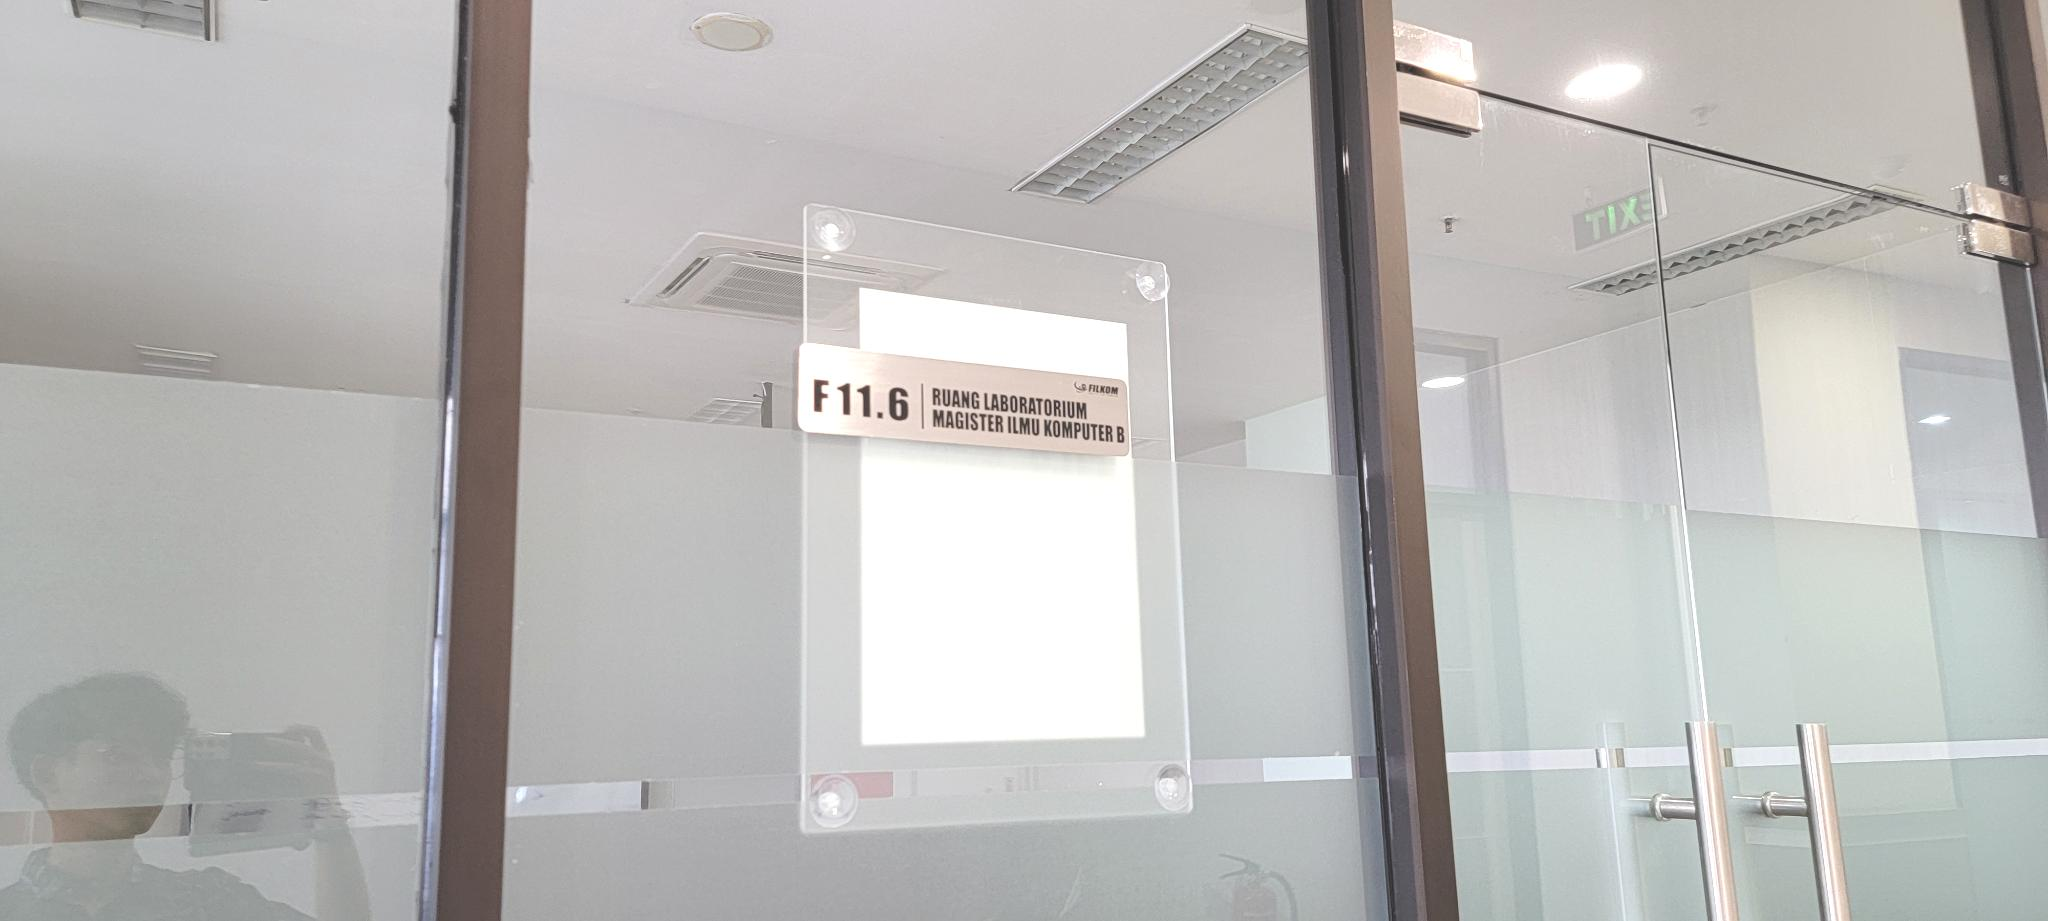plate: (797, 341, 1131, 460)
